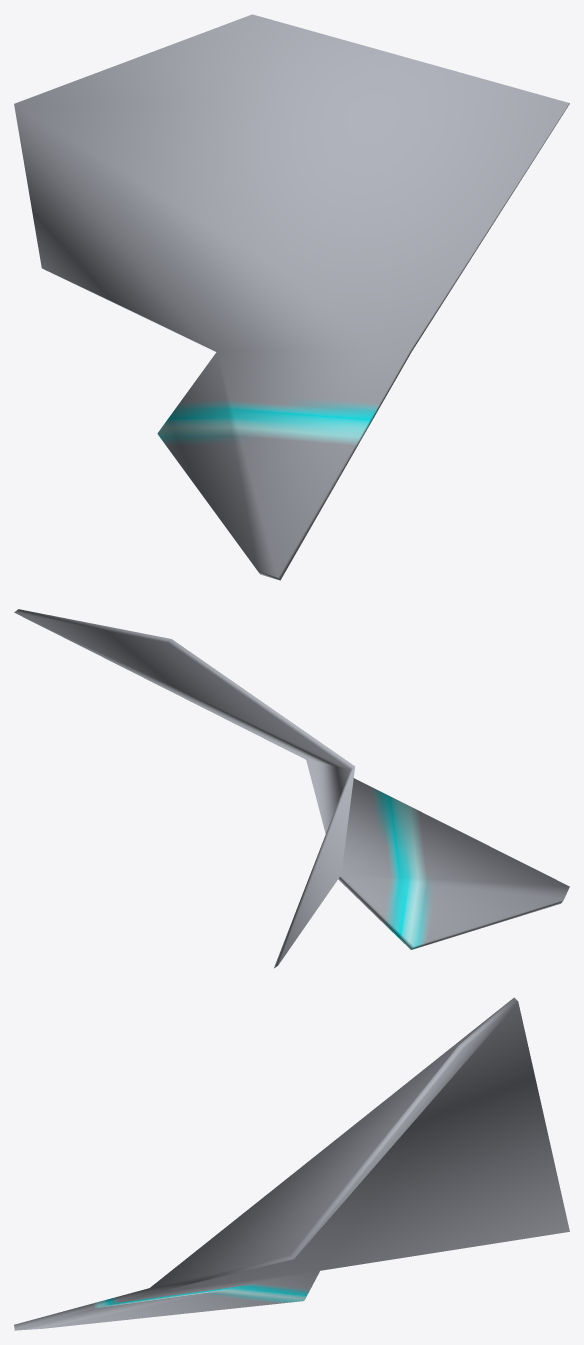
The model's file is Ship6.fbx.
3 views of the same model, one above another, from view 1: azimuth 30°, elevation 25°; view 2: azimuth 150°, elevation 25°; view 3: azimuth 270°, elevation 25° (orthographic). The views are drawn at different scales.
Parts seen in each view (by area): view 1: Cube.005; view 2: Cube.005; view 3: Cube.005.
Boxes of the visible parts, x1=… form: Cube.005: x1=14, y1=14, x2=569, y2=580; Cube.005: x1=14, y1=609, x2=569, y2=968; Cube.005: x1=14, y1=997, x2=569, y2=1330.
Bounding box in the file's own units: 91.03 × 93.61 × 70.84.
